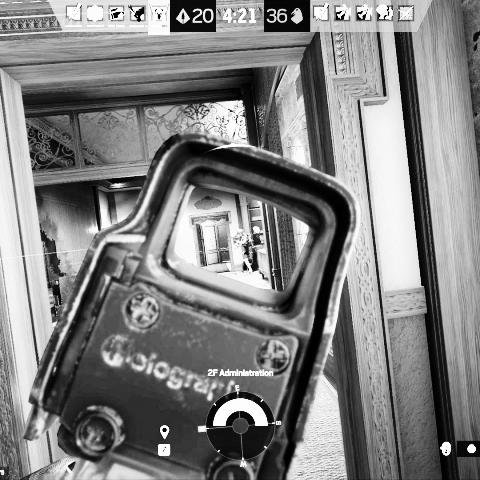Character: (232, 228, 256, 275)
Head: (236, 228, 246, 236)
